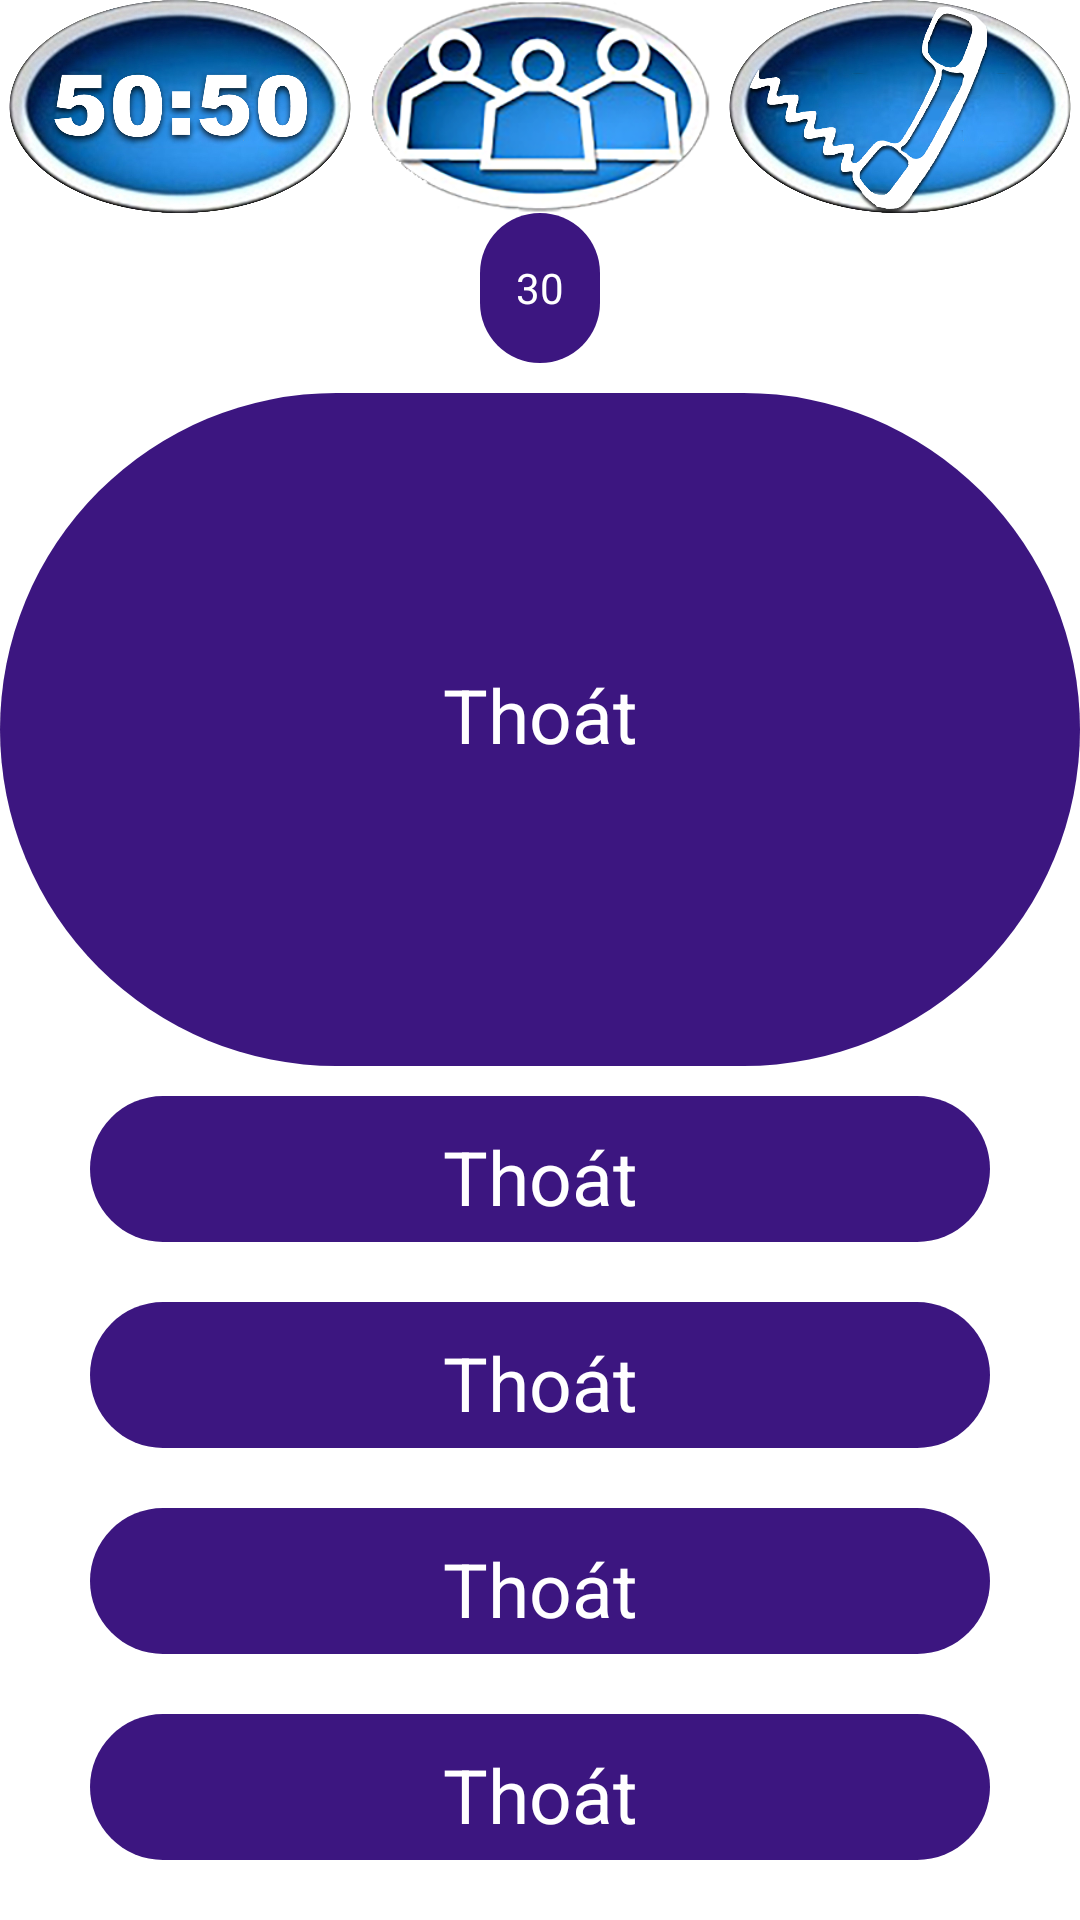

Point at icon controls on the screen. Image size 1080*1920, points as [x,y].
call: [900,106]
trogiup: [540,107]
